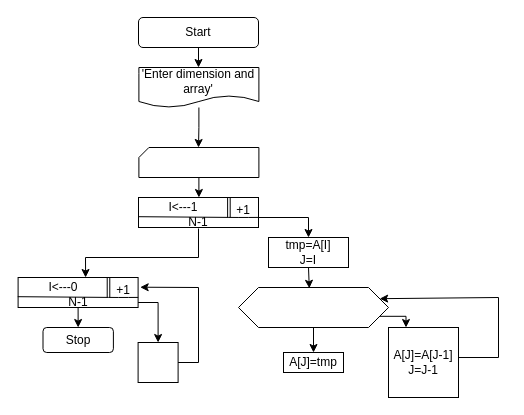
This 524x415 diagram has some shape labels left out. Here are the shapes that lost their labels. From the top down, the centre of each, then its label:
At pixel 198 162: "N, A[N]".
At pixel 313 307: "(J>0) and (tmp<A[J-1])".
At pixel 157 362: "A[I]".
